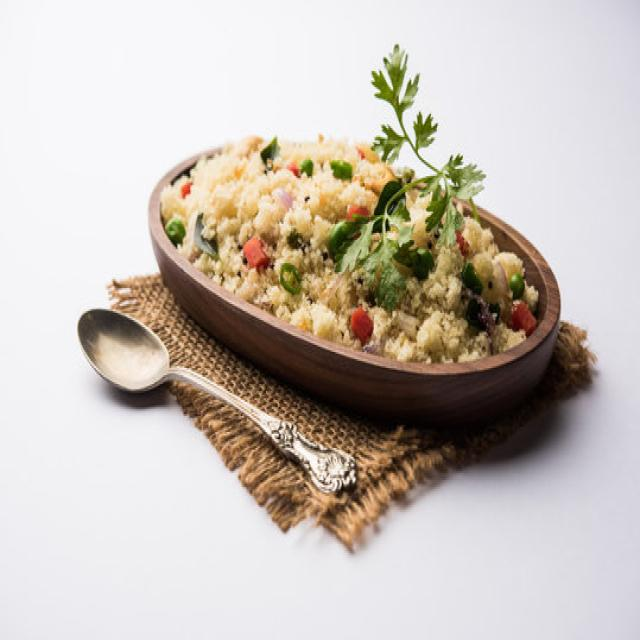UPMA: (161, 141, 545, 360)
